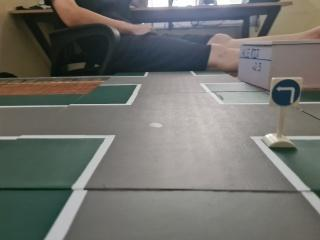left: (271, 75, 301, 108)
